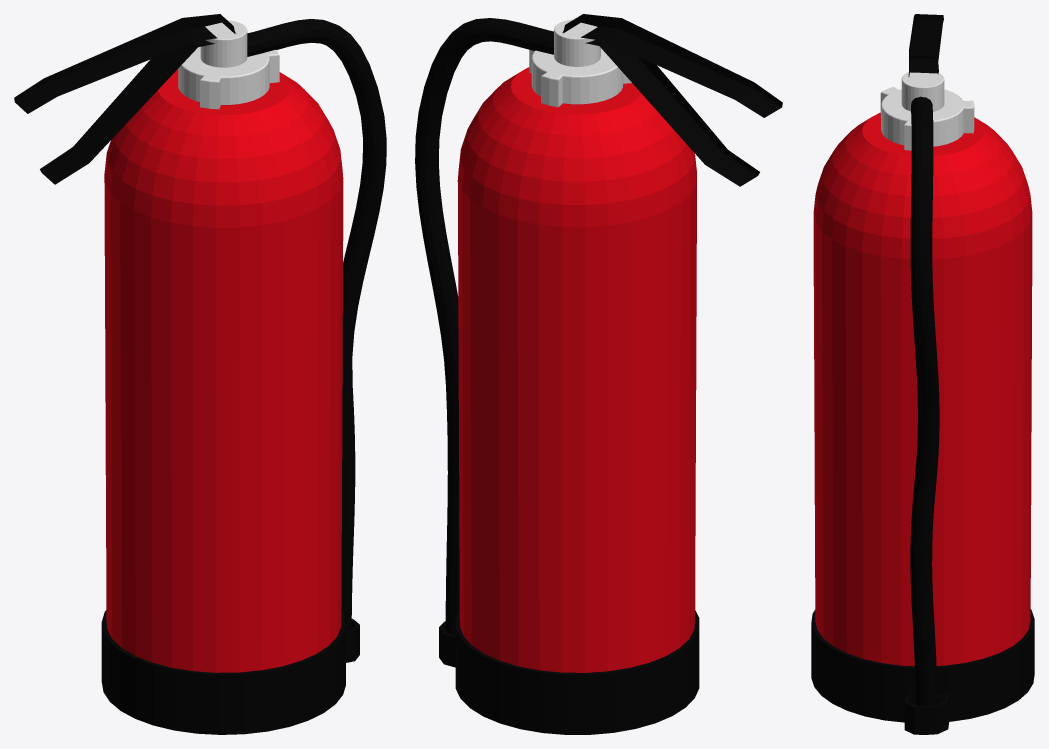
Rendered from FeuerloscherModell.fbx.
The picture shows the model from 3 angles, left to right: view 1: azimuth 30°, elevation 25°; view 2: azimuth 150°, elevation 25°; view 3: azimuth 270°, elevation 25°; orthographic projection. The views are drawn at different scales.
Parts seen in each view (by area): view 1: Sphere; view 2: Sphere; view 3: Sphere.
Boxes of the visible parts, box(x1,y1,x2,y2) form: Sphere: box(14, 14, 386, 734); Sphere: box(415, 14, 782, 734); Sphere: box(811, 14, 1034, 734).
Size of the model in its own units: 349 by 615 by 204.
